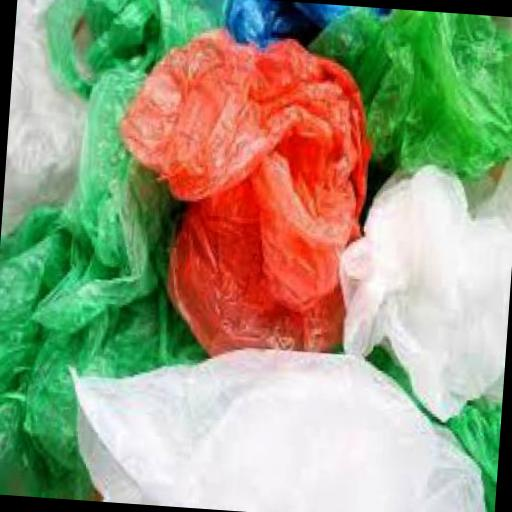plastic: (108, 17, 378, 366), (16, 62, 226, 480), (53, 327, 497, 512), (325, 153, 512, 421), (297, 3, 512, 186), (0, 196, 126, 499), (358, 340, 504, 512), (1, 0, 102, 237), (38, 0, 225, 105), (194, 0, 395, 59)
